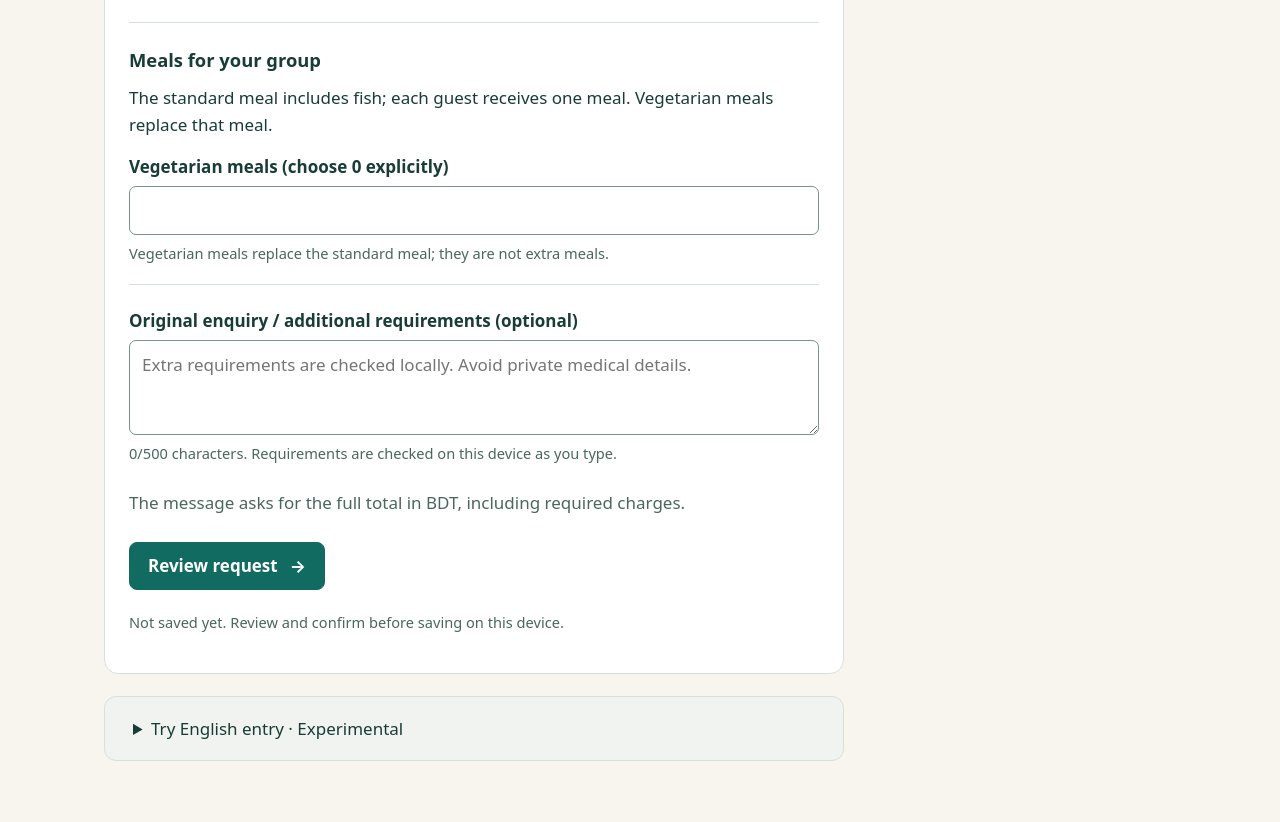
recording a direct-contact study outcome does not submit the request form
(page scrolled)
Replace the text in the text box labelled "Original enquiry / additional requirements (optional)" with "One guest has a peanut allergy." at (474, 388), box [129,340,819,435]
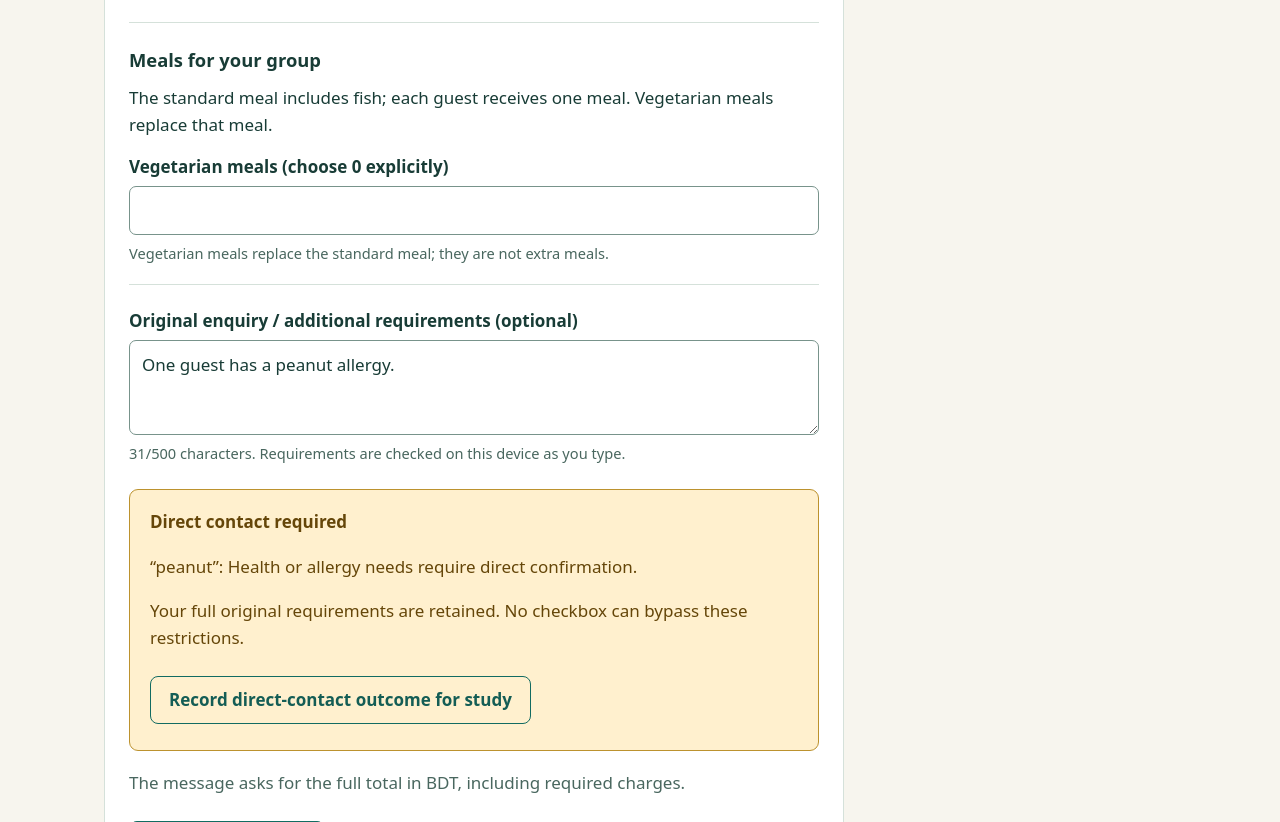
Click the button "Record direct-contact outcome for study" at (340, 700), box [150,676,531,724]
(page scrolled)
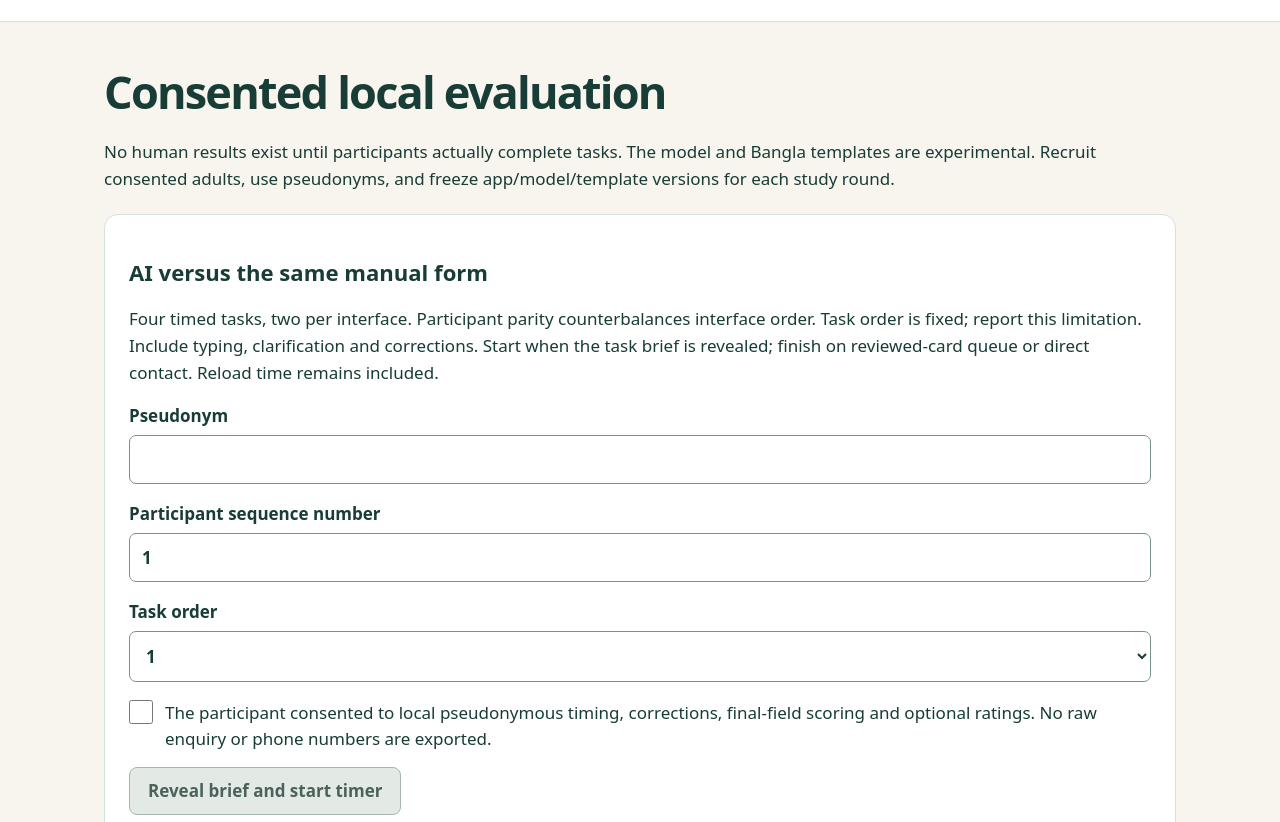
expect the heading "Consented local evaluation" is shown: met, box [104,61,666,122]
